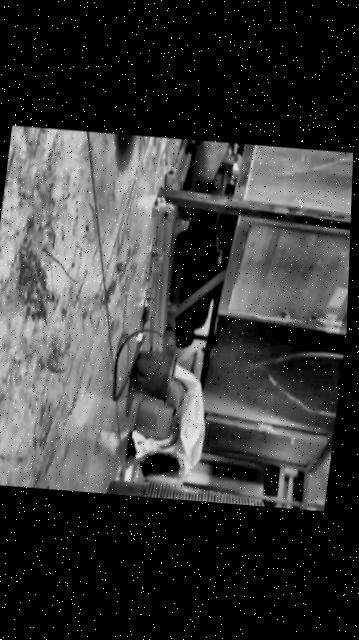pot: (129, 352, 176, 404)
